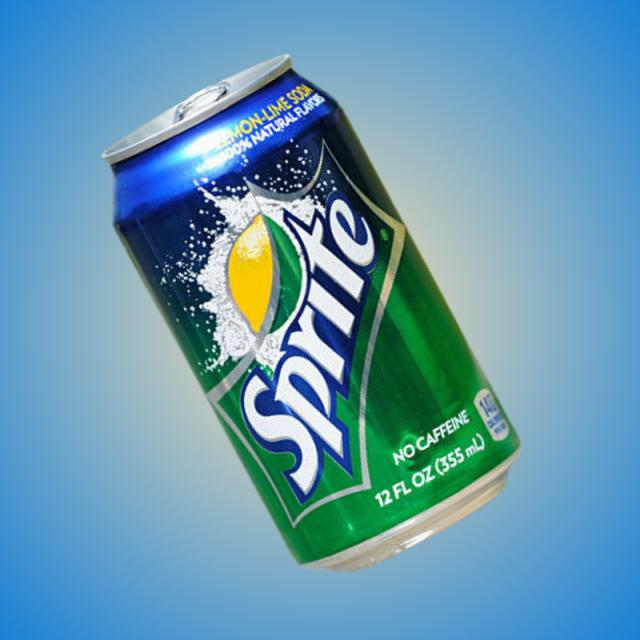sprite: (84, 54, 514, 604)
